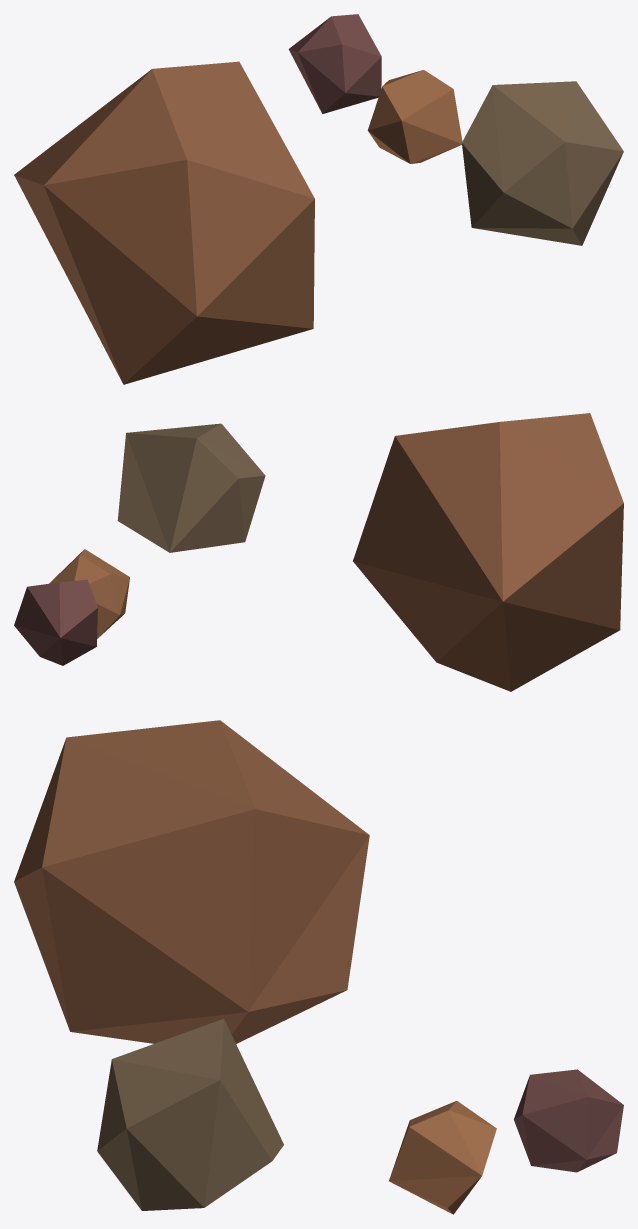
Rendered from montenegroQuindio.glb.
3 renders of one model, top to bottom at view 1: azimuth 30°, elevation 25°; view 2: azimuth 150°, elevation 25°; view 3: azimuth 270°, elevation 25°, orthographic. The views are drawn at different scales.
Parts seen in each view (by area): view 1: Sphere.004, Sphere.003, Sphere.001, Sphere.002; view 2: Sphere.004, Sphere.003, Sphere.002, Sphere.001; view 3: Sphere.004, Sphere.003, Sphere.002, Sphere.001.
Boxes of the visible parts, x1,y1,x2,y2 form: Sphere.004: (14, 61, 314, 384); Sphere.003: (462, 81, 623, 245); Sphere.001: (367, 70, 462, 163); Sphere.002: (288, 14, 381, 113); Sphere.004: (353, 413, 623, 691); Sphere.003: (117, 423, 265, 552); Sphere.002: (14, 579, 97, 665); Sphere.001: (49, 549, 129, 638); Sphere.004: (14, 720, 369, 1043); Sphere.003: (97, 1019, 283, 1210); Sphere.002: (514, 1069, 623, 1172); Sphere.001: (389, 1101, 496, 1214).
Size of what is drawn, in the model's own units: 3.68 by 1.91 by 3.12.
